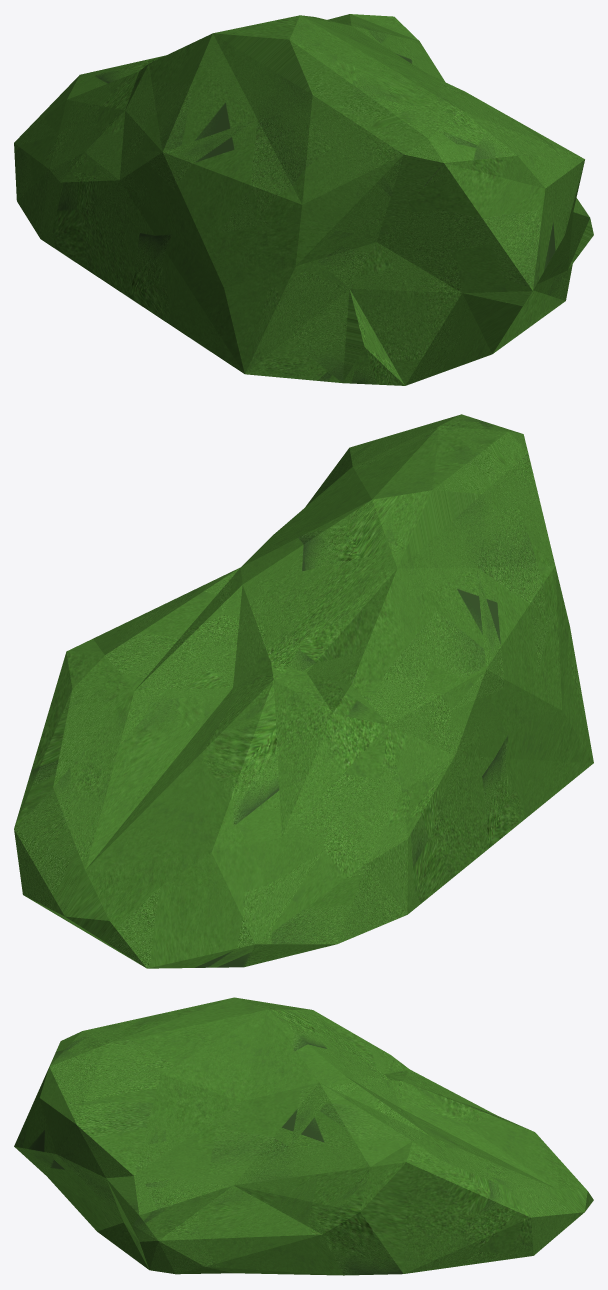
The model's file is rock_3.fbx.
3 renders of one model, top to bottom at view 1: azimuth 30°, elevation 25°; view 2: azimuth 150°, elevation 25°; view 3: azimuth 270°, elevation 25°, orthographic. The views are drawn at different scales.
Parts seen in each view (by area): view 1: rock_3:Stone_02; view 2: rock_3:Stone_02; view 3: rock_3:Stone_02.
Part boxes in pixels (left/top/right/bottom): rock_3:Stone_02: left=14, top=14, right=593, bottom=385; rock_3:Stone_02: left=14, top=414, right=593, bottom=968; rock_3:Stone_02: left=14, top=997, right=593, bottom=1275.
Size of the model in its own units: 6.46 by 4.69 by 12.58.
